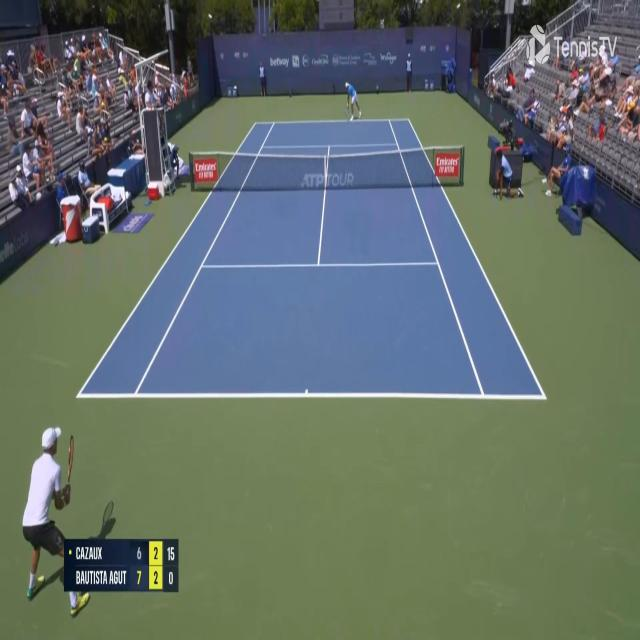tennis-player: (19, 417, 87, 631), (342, 76, 362, 122)
